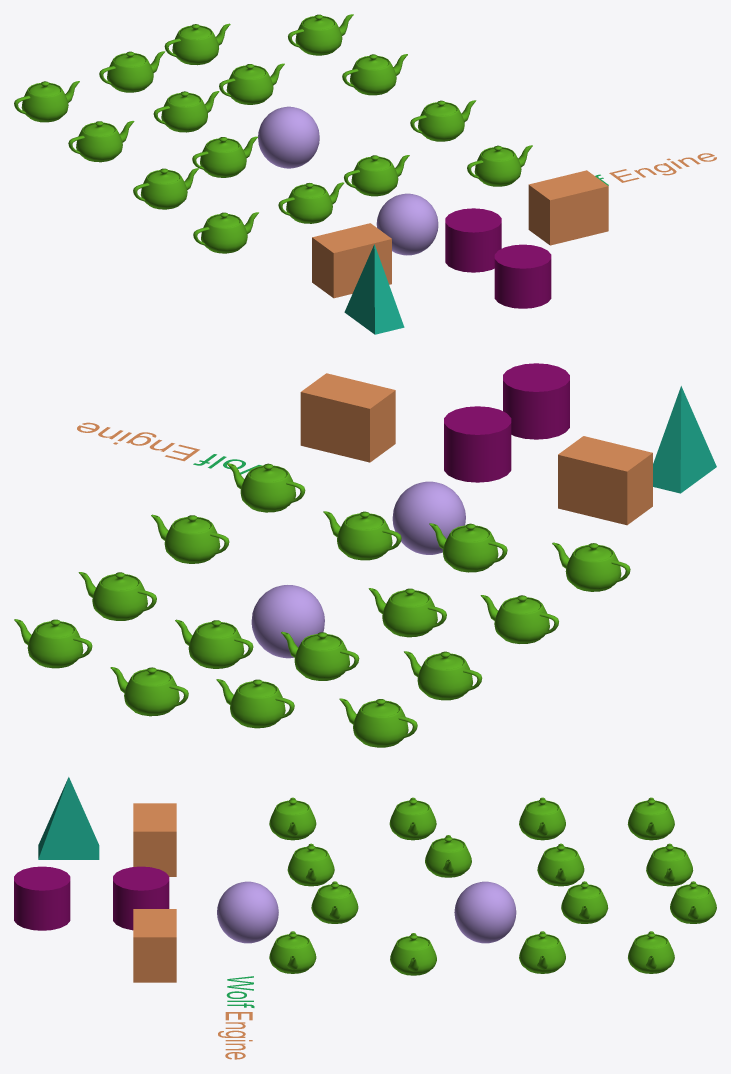
Rendered from batch.DAE.
3 views of the same model, one above another, from view 1: azimuth 30°, elevation 25°; view 2: azimuth 150°, elevation 25°; view 3: azimuth 270°, elevation 25° (orthographic). The views are drawn at different scales.
Parts seen in each view (by area): view 1: Box001, Box002, Cylinder002, Cylinder001, Sphere002, Sphere001, Pyramid001, Teapot012, Teapot001, Teapot004, Teapot005, Teapot014 (+11 smaller); view 2: Box001, Box002, Cylinder001, Cylinder002, Pyramid001, Sphere001, Sphere002, Teapot002, Teapot010, Teapot012, Teapot003, Teapot001 (+11 smaller); view 3: Cylinder002, Box001, Pyramid001, Sphere001, Sphere002, Box002, Cylinder001, Teapot001, Teapot014, Teapot006, Teapot007, Teapot002 (+11 smaller).
Boxes of the visible parts, bbox=[...] form: Box001: bbox=[528, 170, 608, 245]; Box002: bbox=[312, 223, 391, 298]; Cylinder002: bbox=[494, 244, 551, 308]; Cylinder001: bbox=[445, 208, 501, 272]; Sphere002: bbox=[258, 106, 319, 168]; Sphere001: bbox=[376, 193, 438, 255]; Pyramid001: bbox=[344, 244, 404, 334]; Teapot012: bbox=[288, 14, 353, 55]; Teapot001: bbox=[467, 145, 532, 186]; Teapot004: bbox=[410, 100, 476, 141]; Teapot005: bbox=[193, 212, 258, 253]; Teapot014: bbox=[153, 91, 219, 132]; Box001: bbox=[300, 373, 395, 462]; Box002: bbox=[558, 436, 652, 525]; Cylinder001: bbox=[444, 406, 511, 482]; Cylinder002: bbox=[503, 363, 569, 439]; Pyramid001: bbox=[653, 386, 716, 493]; Sphere001: bbox=[392, 481, 465, 554]; Sphere002: bbox=[251, 585, 324, 658]; Teapot002: bbox=[323, 511, 401, 560]; Teapot010: bbox=[216, 679, 294, 728]; Teapot012: bbox=[14, 619, 92, 668]; Teapot003: bbox=[429, 523, 507, 572]; Teapot001: bbox=[227, 463, 305, 512]; Cylinder002: bbox=[14, 866, 70, 930]; Box001: bbox=[133, 909, 176, 982]; Pyramid001: bbox=[38, 777, 99, 859]; Sphere001: bbox=[217, 881, 278, 943]; Sphere002: bbox=[454, 881, 516, 943]; Box002: bbox=[133, 803, 176, 876]; Cylinder001: bbox=[113, 866, 169, 930]; Teapot001: bbox=[269, 931, 316, 973]; Teapot014: bbox=[537, 843, 584, 886]; Teapot006: bbox=[389, 797, 436, 840]; Teapot007: bbox=[425, 835, 471, 877]; Teapot002: bbox=[311, 881, 358, 923].
Size of the model in its own units: 339 by 419 by 68.56.
